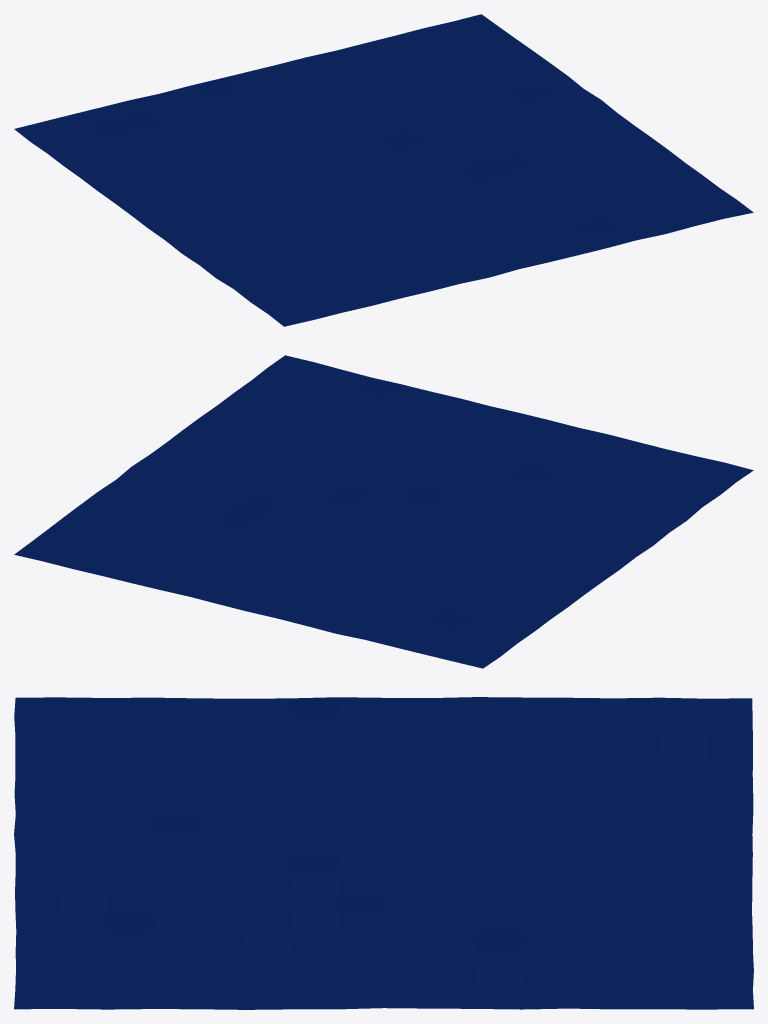
Rendered from WATER.fbx.
3 renders of one model, top to bottom at view 1: azimuth 30°, elevation 25°; view 2: azimuth 150°, elevation 25°; view 3: azimuth 270°, elevation 25°, orthographic. The views are drawn at different scales.
Visible parts, largest first — view 1: Plane; view 2: Plane; view 3: Plane.
Boxes of the visible parts, x1=… form: Plane: x1=14, y1=14, x2=753, y2=326; Plane: x1=14, y1=355, x2=753, y2=668; Plane: x1=14, y1=697, x2=753, y2=1009.
Bounding box in the file's own units: 21635 × 90.87 × 21641.
